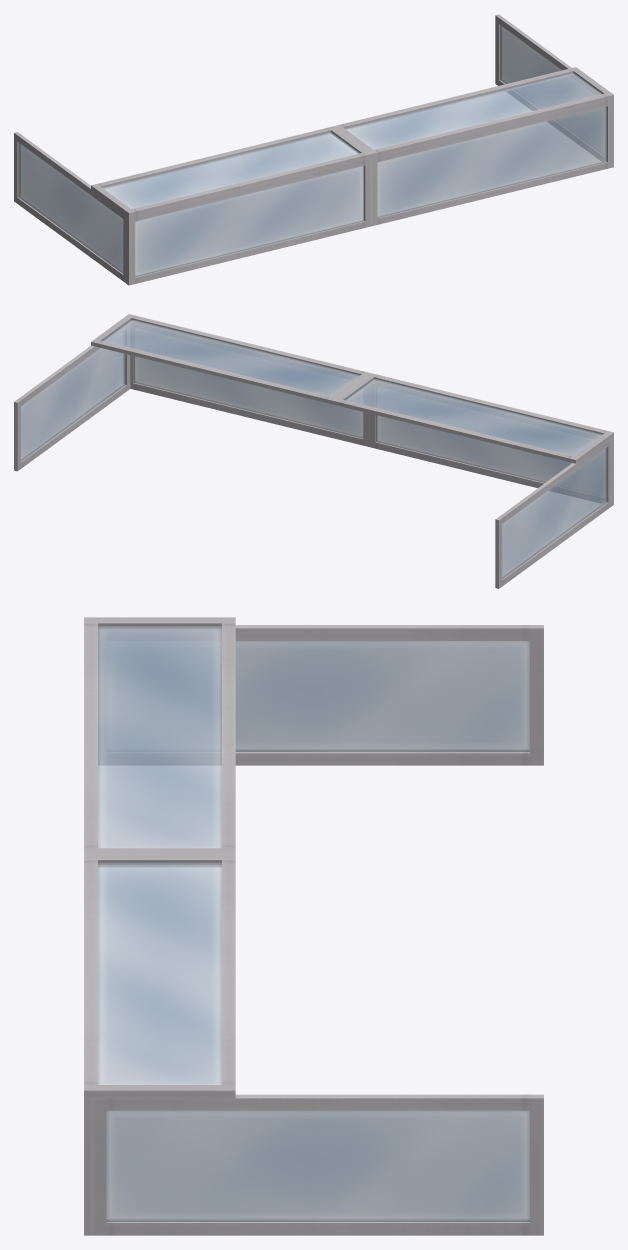
The model's file is jsf_AdditionalWindow_s02.fbx.
3 renders of one model, top to bottom at view 1: azimuth 30°, elevation 25°; view 2: azimuth 150°, elevation 25°; view 3: azimuth 270°, elevation 25°, orthographic. The views are drawn at different scales.
Parts seen in each view (by area): view 1: Window, Frame; view 2: Window, Frame; view 3: Window, Frame.
Boxes of the visible parts, bbox=[...] form: Window: bbox=[18, 25, 607, 276]; Frame: bbox=[14, 14, 613, 285]; Window: bbox=[21, 319, 607, 578]; Frame: bbox=[14, 314, 613, 588]; Window: bbox=[98, 625, 529, 1221]; Frame: bbox=[84, 617, 543, 1235].
Bounding box in the file's own units: 203 × 28.91 × 83.15.
